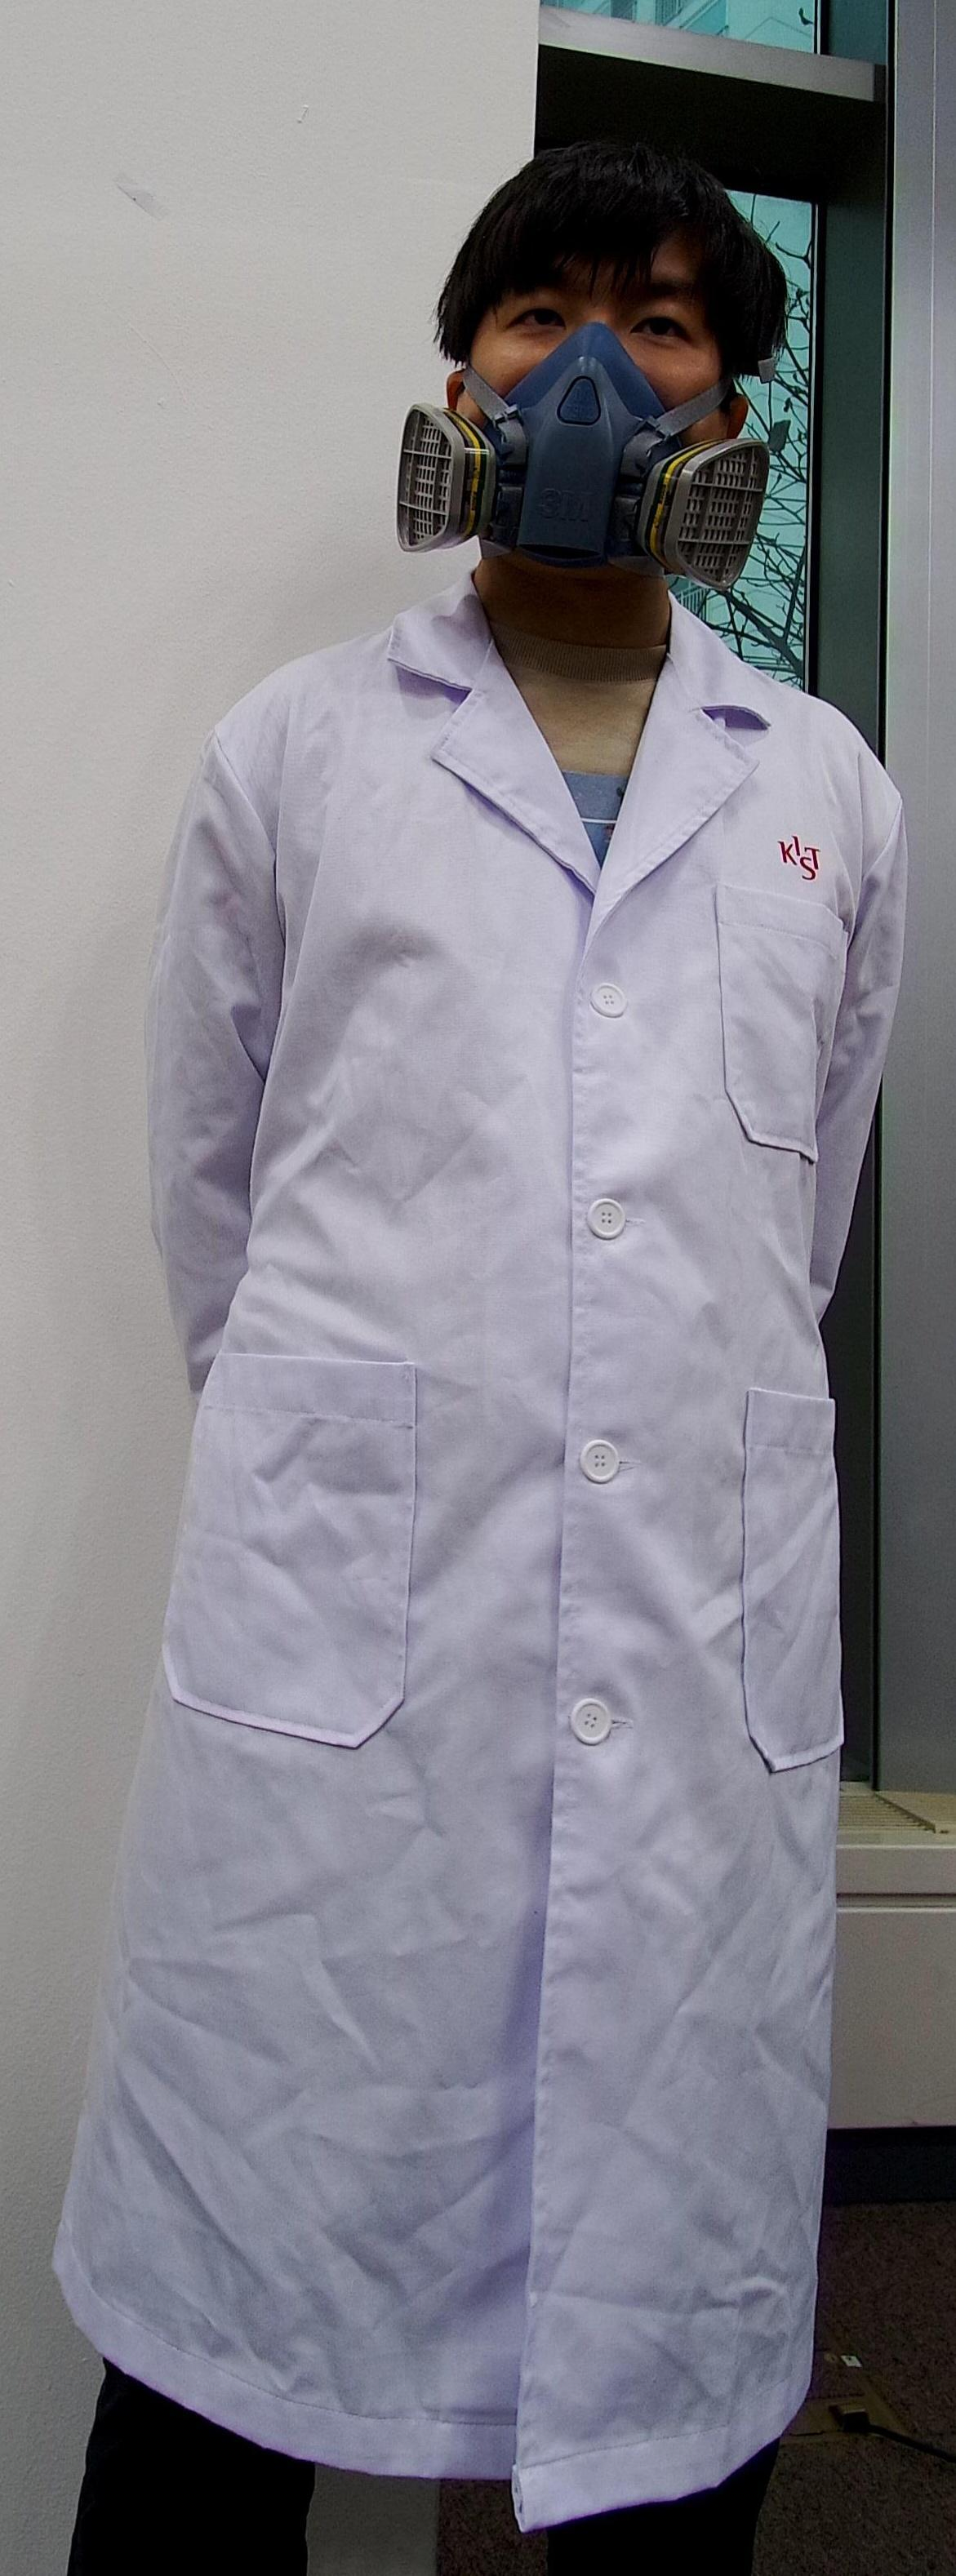lab_coat: (168, 715, 853, 2449)
